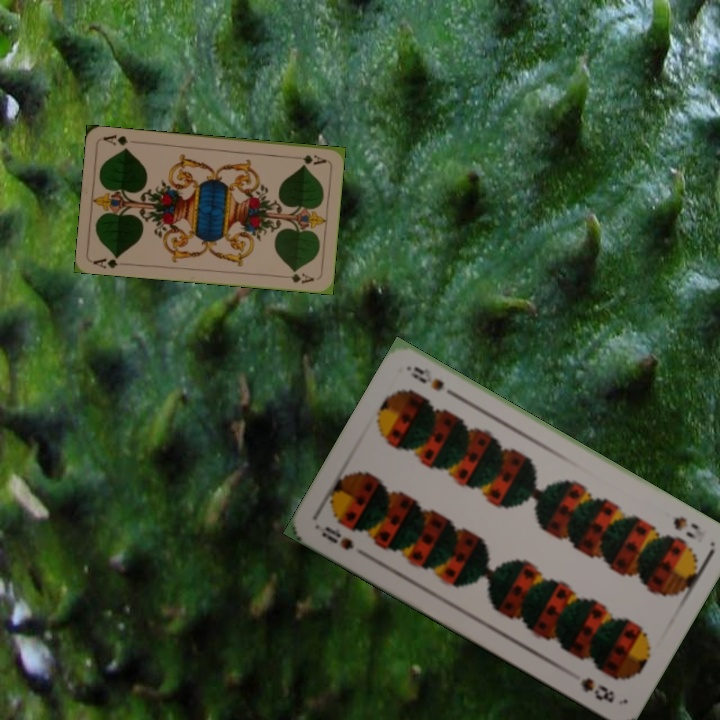GA: (89, 251, 122, 271), (299, 151, 328, 167)
S8: (317, 522, 357, 553), (669, 512, 703, 542)
